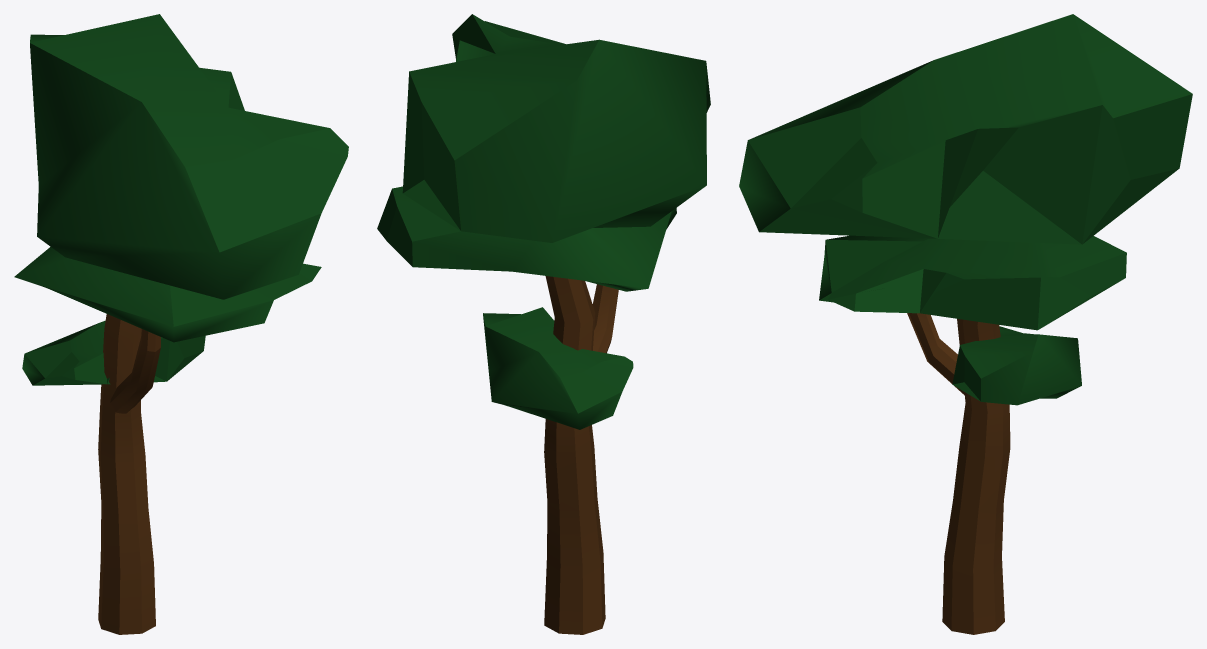
File: Tree3.fbx
The picture shows the model from 3 angles, left to right: view 1: azimuth 30°, elevation 25°; view 2: azimuth 150°, elevation 25°; view 3: azimuth 270°, elevation 25°; orthographic projection. The views are drawn at different scales.
Visible parts, largest first — view 1: Tree3; view 2: Tree3; view 3: Tree3.
Boxes of the visible parts, x1=… form: Tree3: x1=14, y1=14, x2=348, y2=634; Tree3: x1=377, y1=14, x2=710, y2=634; Tree3: x1=739, y1=14, x2=1192, y2=634.
Bounding box in the file's own units: 2.1 × 4.05 × 2.86.
